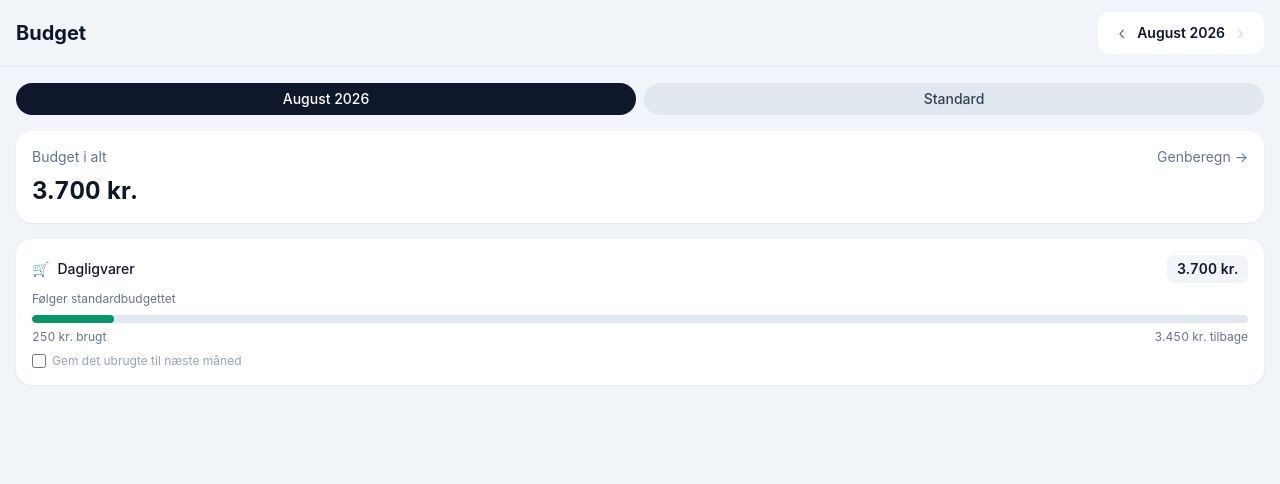
editing a budget amount › keeps the editor open and explains itself on unreadable input
Click the button "3.700 kr." at (1208, 269), box left=1167, top=255, right=1248, bottom=283
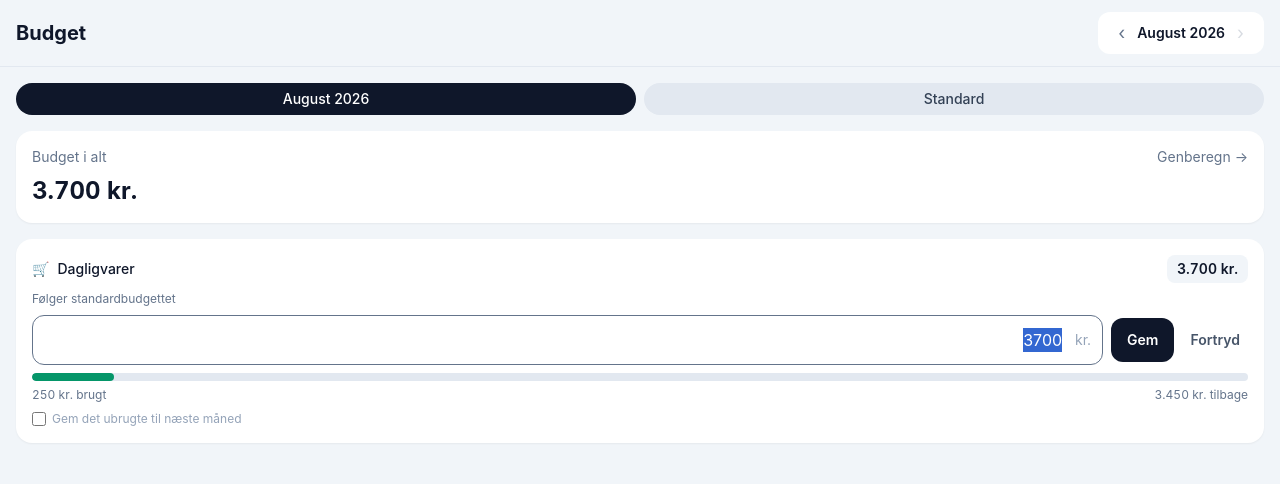
Type "abc" into the field named "Budget for Dagligvarer" at (568, 340), box left=32, top=315, right=1103, bottom=365
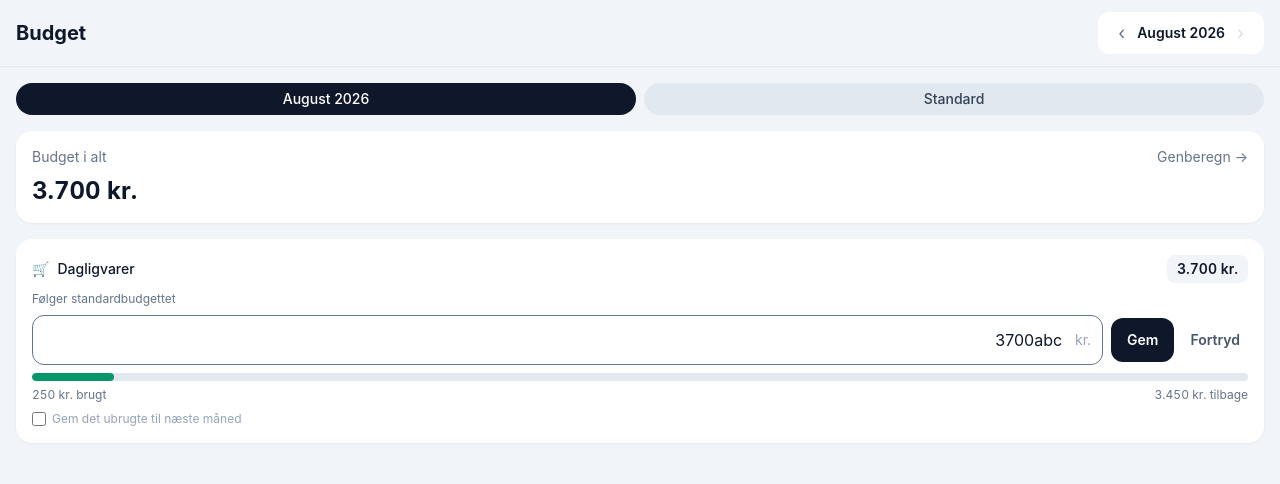
Click the button "Gem" at (1143, 340), box left=1111, top=318, right=1174, bottom=362
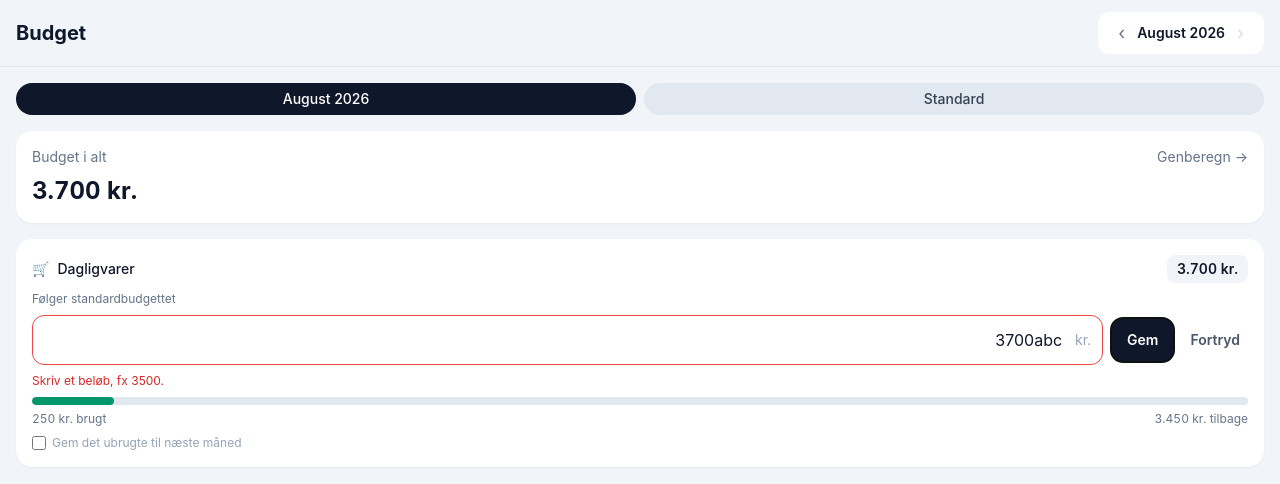
Now the field named "Budget for Dagligvarer" is shown, box left=32, top=315, right=1103, bottom=365
Now the text "Skriv et beløb, fx 3500." is shown, box left=32, top=373, right=164, bottom=388
